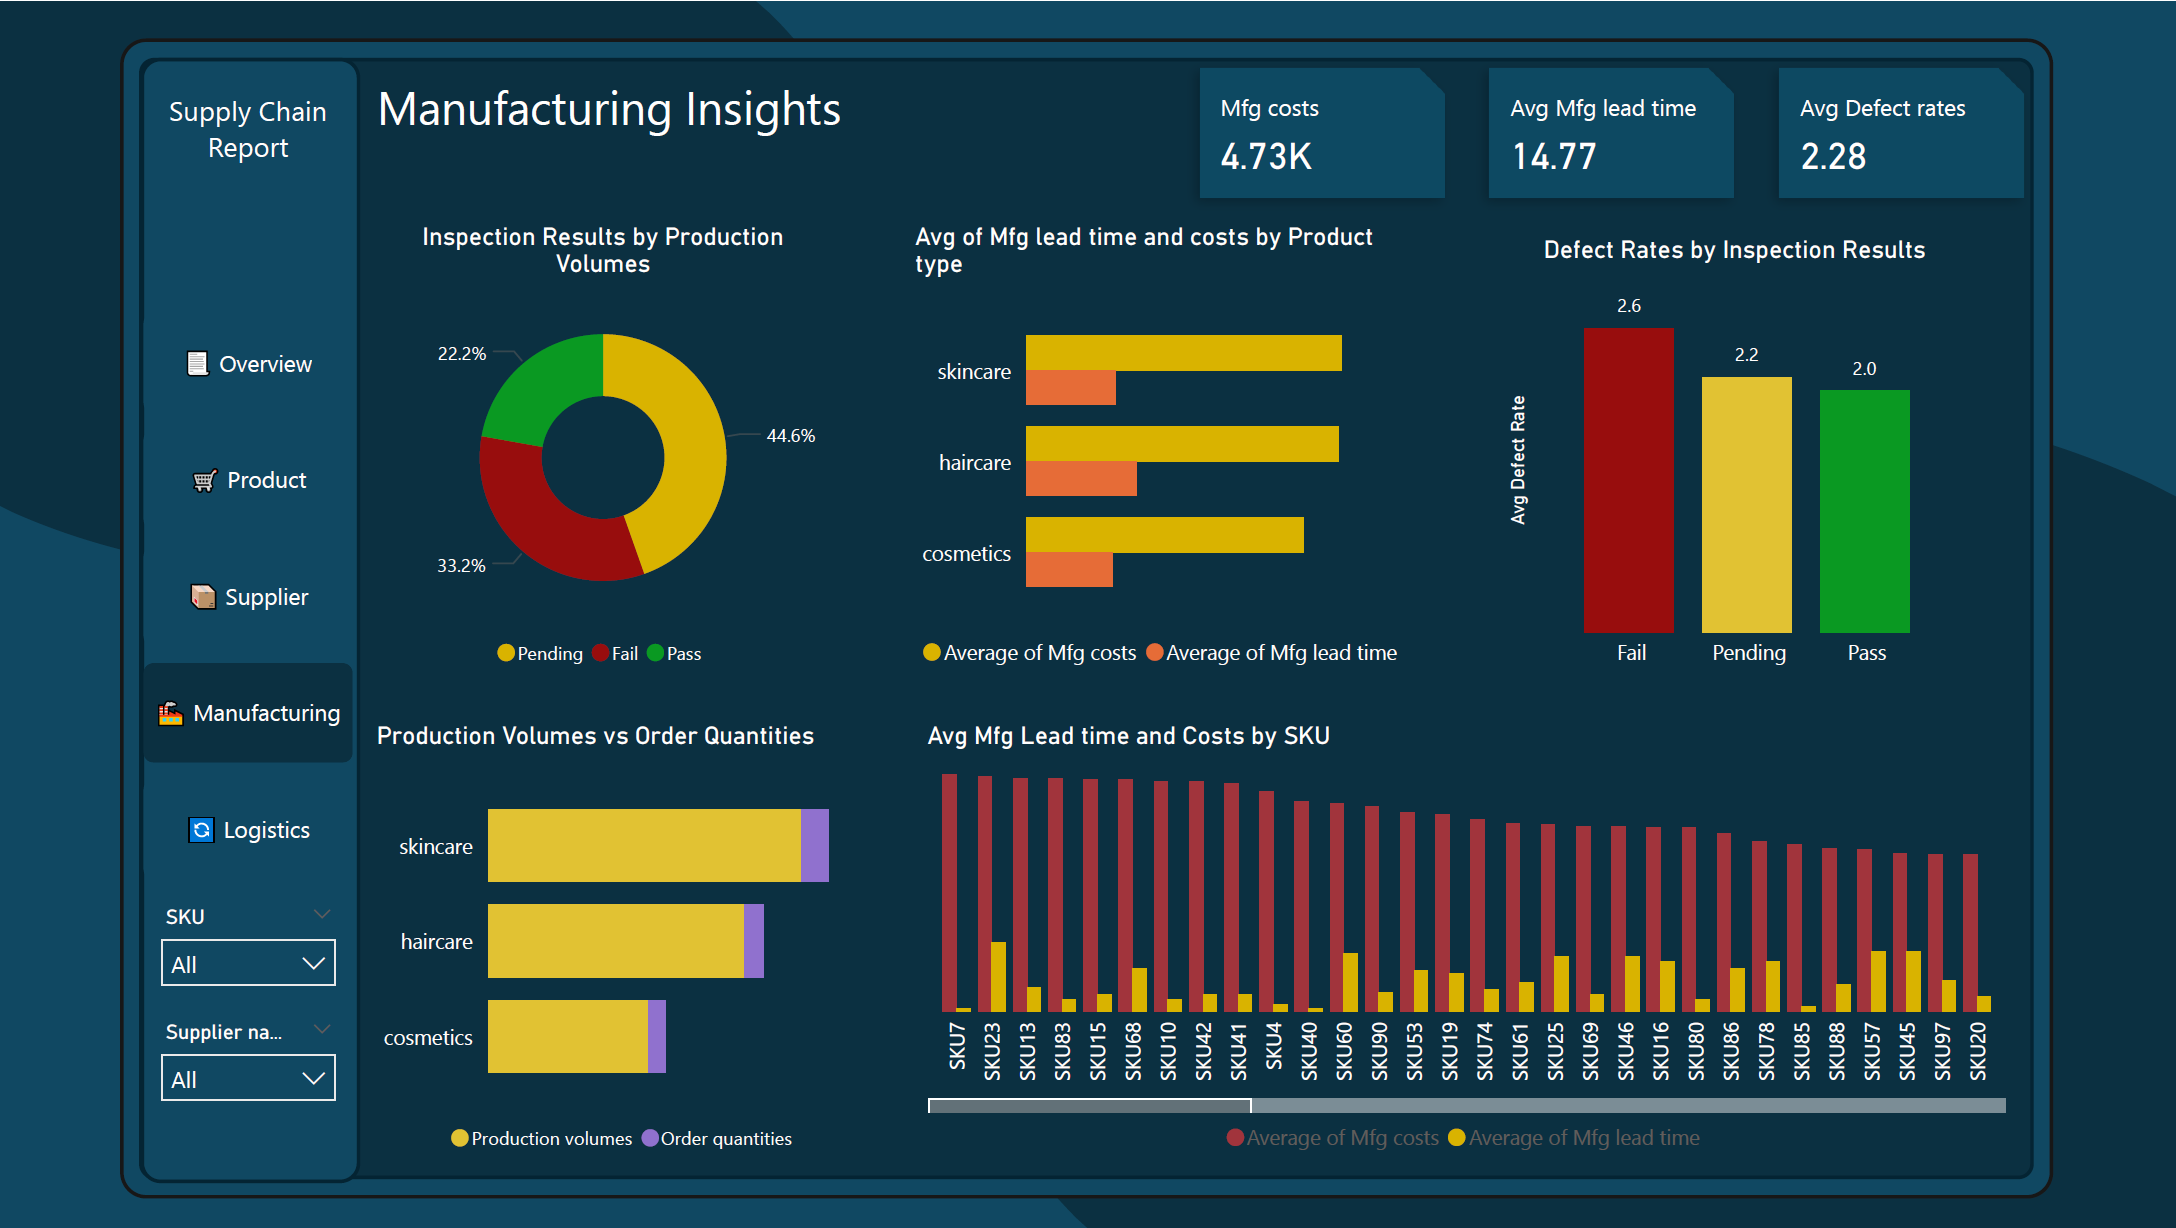

This screenshot's page, from the dashboard's own definition file:
{"tool":"powerbi","page":{"name":"🏭  Manufacturing","canvas":[1280,720],"ordinal":3},"visuals":[{"type":"cardVisual","fields":{"Data":["Sum(supply_chain_data.Mfg costs)","Avg(supply_chain_data.Mfg lead time)","Avg(supply_chain_data.Defect rates)"]},"box":[691.9,25,508.9,104.3],"z":0},{"type":"pageNavigator","box":[90.3,181.2,122,330.7],"z":0,"group":"g1"},{"type":"textbox","box":[220.9,38.4,435.7,62.8],"z":1000},{"type":"textbox","box":[90.3,47.6,122,62.8],"z":1000,"group":"g1"},{"type":"clusteredBarChart","title":"Avg of Mfg lead time and costs by Product type","fields":{"Category":["supply_chain_data.Product type"],"Y":["Avg(supply_chain_data.Mfg costs)","Avg(supply_chain_data.Mfg lead time)"]},"box":[535.1,129.4,300.2,269.1],"z":2000},{"type":"slicer","fields":{"Values":["supply_chain_data.SKU"]},"box":[90.3,521.7,122,60.4],"z":2000,"group":"g1"},{"type":"clusteredColumnChart","title":"Avg Mfg Lead time and Costs by SKU","fields":{"Category":["supply_chain_data.SKU"],"Y":["Avg(supply_chain_data.Mfg costs)","Avg(supply_chain_data.Mfg lead time)"]},"box":[541.8,419.8,639.5,261.2],"z":3000},{"type":"slicer","fields":{"Values":["supply_chain_data.Supplier name"]},"box":[90.3,588.2,122,60.4],"z":3000,"group":"g1"},{"type":"donutChart","title":"Inspection Results by Production Volumes","fields":{"Category":["supply_chain_data.Inspection results"],"Y":["Sum(supply_chain_data.Production volumes)"]},"box":[220.9,129.4,274,269.1],"z":4000},{"type":"barChart","title":"Production Volumes vs Order Quantities ","fields":{"Y":["Sum(supply_chain_data.Production volumes)","Sum(supply_chain_data.Order quantities)"],"Category":["supply_chain_data.Product type"]},"box":[220.9,419.8,300.2,261.2],"z":5000},{"type":"columnChart","title":"Defect Rates by Inspection Results","fields":{"Category":["supply_chain_data.Inspection results"],"Y":["Measures (2).Avg Defect Rate"]},"box":[881.1,137.3,274,261.2],"z":6000},{"type":"group","id":"g1","title":"Group 1","box":[90.3,47.6,122,601],"z":7000}]}

Visuals, with their boxes in screenshot pixels (x1, y1, x2, y2), scaled from the page's 1280x720 canvas onto the 2176x1228 screenshot:
cardVisual - Sum(supply_chain_data.Mfg costs) x Avg(supply_chain_data.Mfg lead time): box(1176, 43, 2041, 221)
pageNavigator: box(154, 309, 361, 873)
textbox: box(376, 65, 1116, 173)
textbox: box(154, 81, 361, 188)
"Avg of Mfg lead time and costs by Product type" clusteredBarChart: box(910, 221, 1420, 680)
slicer - supply_chain_data.SKU: box(154, 890, 361, 993)
"Avg Mfg Lead time and Costs by SKU" clusteredColumnChart: box(921, 716, 2008, 1161)
slicer - supply_chain_data.Supplier name: box(154, 1003, 361, 1106)
"Inspection Results by Production Volumes" donutChart: box(376, 221, 841, 680)
"Production Volumes vs Order Quantities " barChart: box(376, 716, 886, 1161)
"Defect Rates by Inspection Results" columnChart: box(1498, 234, 1964, 680)
"Group 1" group: box(154, 81, 361, 1106)
